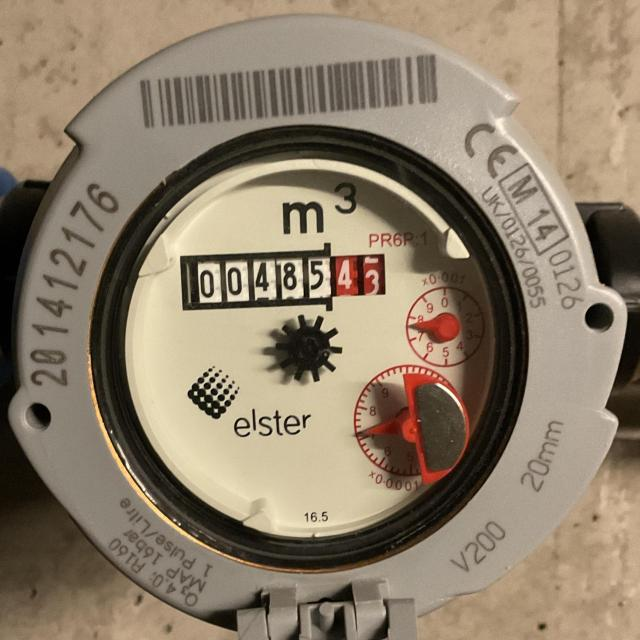gaz_meter: (121, 152, 502, 538)
indication: (182, 251, 388, 307)
